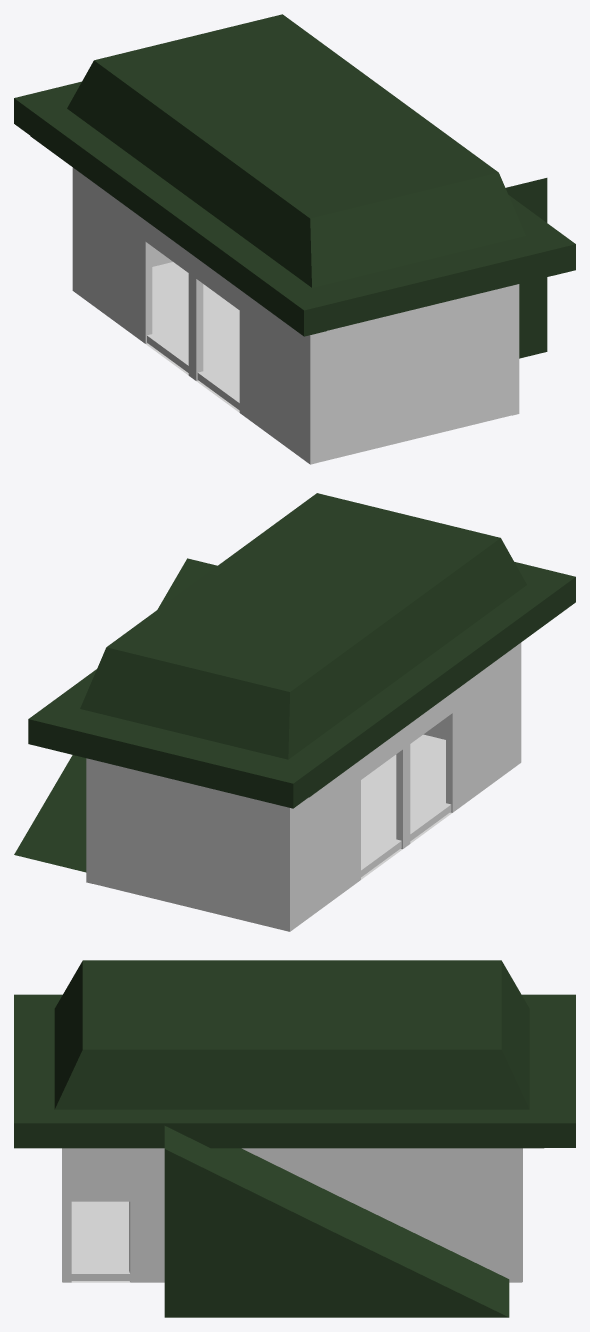
File: market with Ramp.fbx
3 views of the same model, one above another, from view 1: azimuth 30°, elevation 25°; view 2: azimuth 150°, elevation 25°; view 3: azimuth 270°, elevation 25° (orthographic). The views are drawn at different scales.
Parts seen in each view (by area): view 1: Cube.005, Cube.001, Cube.004, Cube, Cube.006; view 2: Cube.005, Cube.002, Cube.004, Cube, Cube.006; view 3: Cube.005, Cube.006, Cube.003, Cube.
Boxes of the visible parts, <box> form: Cube.005: <box>14,14,575,336</box>; Cube.001: <box>311,284,518,463</box>; Cube.004: <box>72,167,311,464</box>; Cube: <box>147,262,239,410</box>; Cube.006: <box>505,178,547,358</box>; Cube.005: <box>28,493,575,808</box>; Cube.002: <box>86,758,288,931</box>; Cube.004: <box>288,642,521,931</box>; Cube: <box>361,734,451,877</box>; Cube.006: <box>14,558,217,872</box>; Cube.005: <box>14,960,575,1148</box>; Cube.006: <box>164,1126,509,1317</box>; Cube.003: <box>62,1148,522,1282</box>; Cube: <box>71,1201,130,1280</box>.
Bounding box in the file's own units: 1388 × 975 × 2173.
